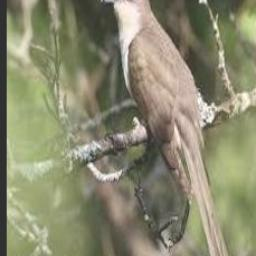Cuckoo: (101, 0, 235, 256)
